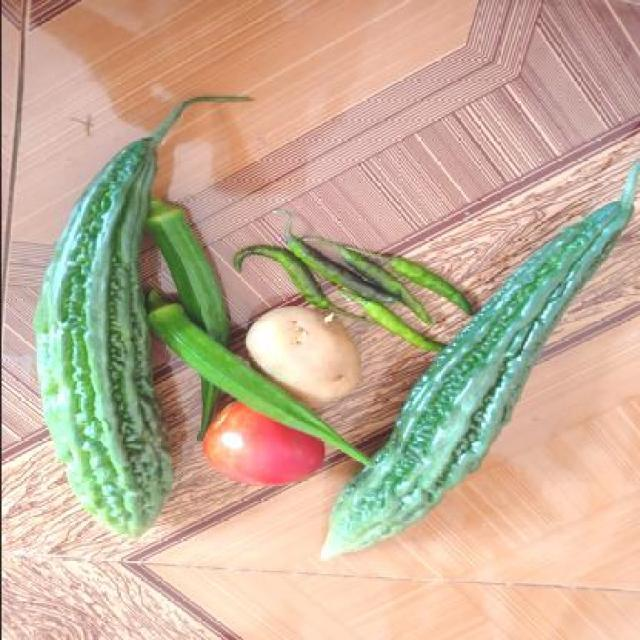Potato: (243, 306, 357, 399)
Tomato: (202, 398, 328, 484)
